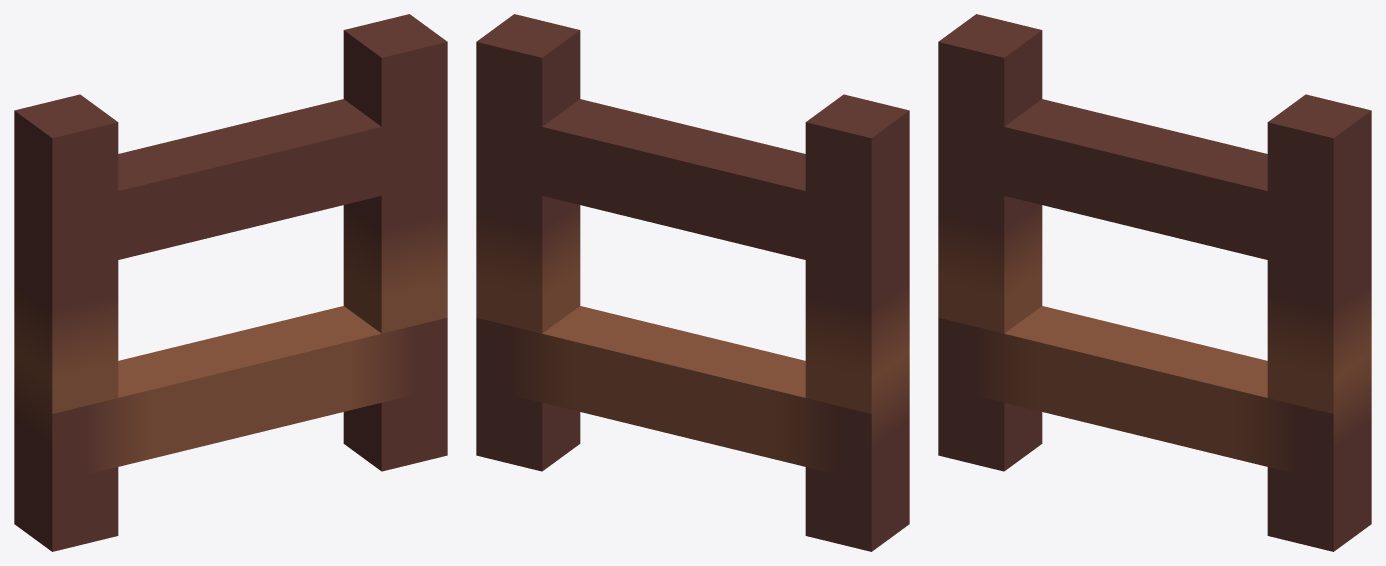
The model's file is ladder_middle.fbx.
3 views of the same model, side by side, from view 1: azimuth 30°, elevation 25°; view 2: azimuth 150°, elevation 25°; view 3: azimuth 330°, elevation 25° (orthographic).
Parts seen in each view (by area): view 1: ladder_middle; view 2: ladder_middle; view 3: ladder_middle.
Boxes of the visible parts, <box> form: ladder_middle: <box>14,14,447,551</box>; ladder_middle: <box>476,14,909,551</box>; ladder_middle: <box>938,14,1371,551</box>.
Size of the model in its own units: 6 by 6 by 1.
Materials: 1 (1 with a texture image).
